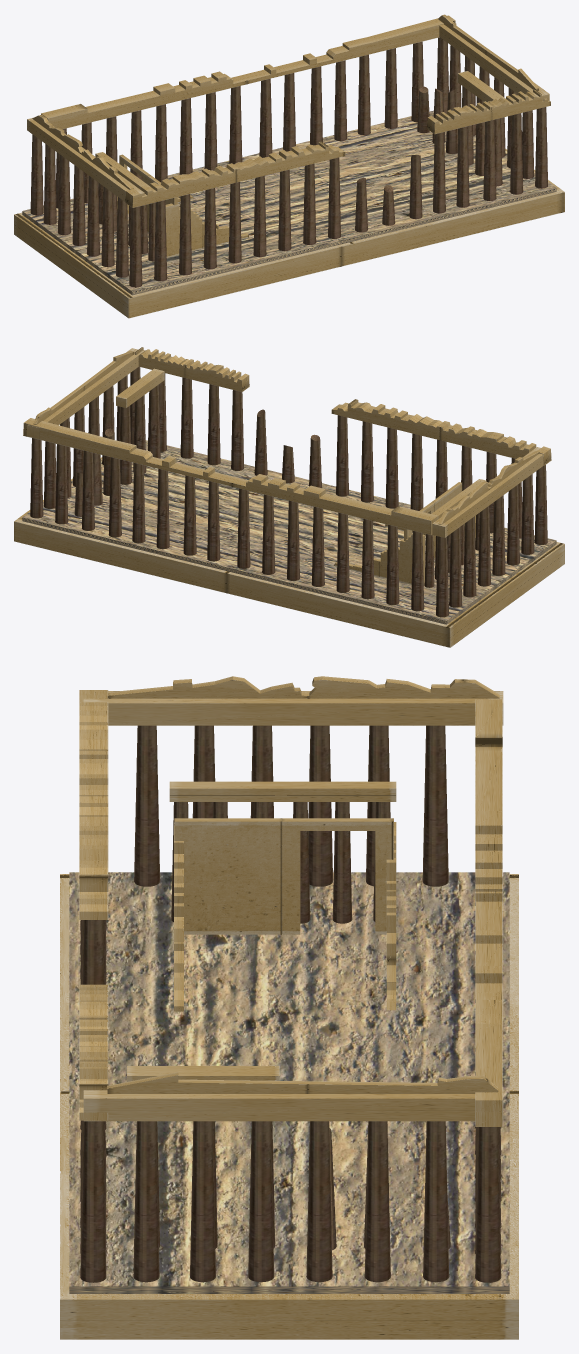
The model's file is input.glb.
3 views of the same model, one above another, from view 1: azimuth 30°, elevation 25°; view 2: azimuth 150°, elevation 25°; view 3: azimuth 270°, elevation 25° (orthographic). The views are drawn at different scales.
Parts seen in each view (by area): view 1: NGon58; view 2: NGon58; view 3: NGon58.
Boxes of the visible parts, x1=… form: NGon58: x1=14, y1=14, x2=564, y2=318; NGon58: x1=14, y1=347, x2=564, y2=647; NGon58: x1=60, y1=676, x2=518, y2=1339.
Size of the model in its own units: 8.11 by 2.23 by 3.69.
Materials: 3 (3 with a texture image).
